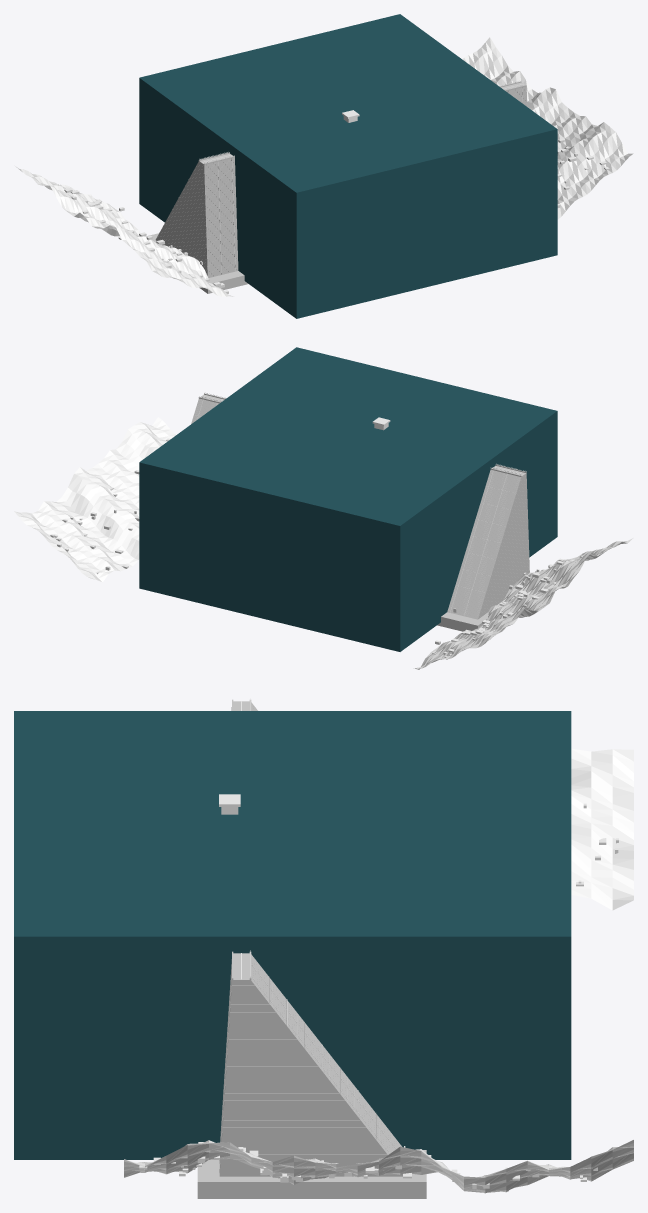
The model's file is wowdam.glb.
3 views of the same model, one above another, from view 1: azimuth 30°, elevation 25°; view 2: azimuth 150°, elevation 25°; view 3: azimuth 270°, elevation 25° (orthographic). The views are drawn at different scales.
Parts seen in each view (by area): view 1: Water_Domain, Valley_Bank_Terrain, Terrain_Rock_Outcrops, Foundation_Mat; view 2: Water_Domain, Valley_Bank_Terrain, Terrain_Rock_Outcrops, Foundation_Mat; view 3: Water_Domain, Valley_Bank_Terrain, Foundation_Mat, Terrain_Rock_Outcrops, Expansion_Joints, Crest_Roadway.
Part boxes in pixels (<box>): Water_Domain: <box>139,14,557,318</box>; Valley_Bank_Terrain: <box>15,37,633,296</box>; Terrain_Rock_Outcrops: <box>56,139,609,293</box>; Foundation_Mat: <box>144,233,248,293</box>; Water_Domain: <box>139,347,557,651</box>; Valley_Bank_Terrain: <box>14,417,633,669</box>; Terrain_Rock_Outcrops: <box>50,438,583,659</box>; Foundation_Mat: <box>437,612,488,631</box>; Water_Domain: <box>14,711,571,1159</box>; Valley_Bank_Terrain: <box>124,748,633,1193</box>; Foundation_Mat: <box>197,1150,426,1198</box>; Terrain_Rock_Outcrops: <box>138,803,619,1191</box>; Expansion_Joints: <box>219,964,395,1172</box>; Crest_Roadway: <box>232,699,251,980</box>.
Bounding box in the file's own units: 620 × 170 × 395.
